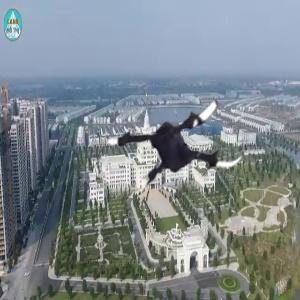drone: (108, 66, 251, 209)
